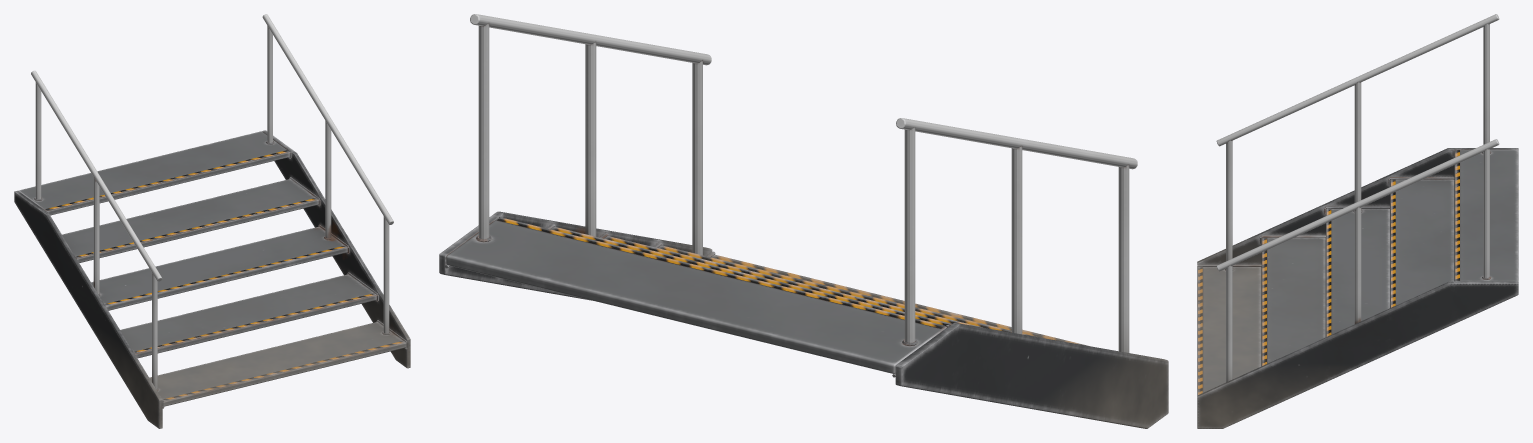
Rendered from SM_Stairs1m.glb.
3 renders of one model, left to right at view 1: azimuth 30°, elevation 25°; view 2: azimuth 150°, elevation 25°; view 3: azimuth 270°, elevation 25°, orthographic. The views are drawn at different scales.
Visible parts, largest first — view 1: SM_Stairs1m; view 2: SM_Stairs1m; view 3: SM_Stairs1m.
Boxes of the visible parts, bbox=[...] form: SM_Stairs1m: bbox=[14, 14, 410, 428]; SM_Stairs1m: bbox=[439, 14, 1168, 428]; SM_Stairs1m: bbox=[1197, 14, 1518, 428].
Bounding box in the file's own units: 2 × 1.95 × 2.
5 materials, 5 textured.
